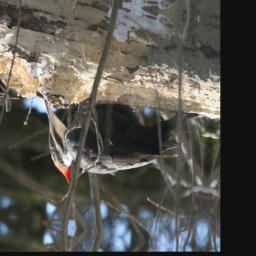Woodpecker: (37, 87, 204, 208)
